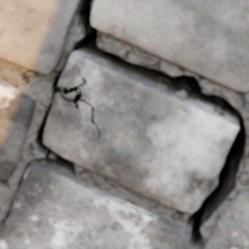brick: (44, 51, 237, 212), (0, 161, 189, 248), (91, 0, 248, 92), (0, 0, 80, 74), (0, 79, 35, 182), (201, 190, 248, 248), (62, 92, 75, 98)
crack: (1, 0, 247, 248)
